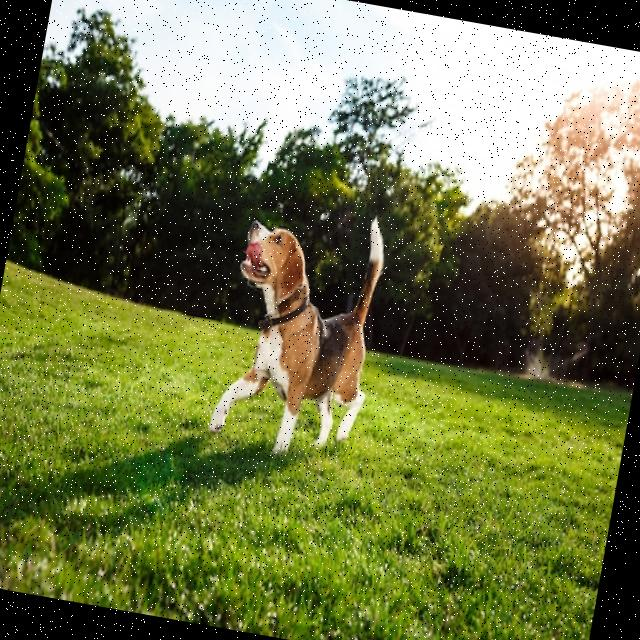Dog: (206, 196, 396, 466)
